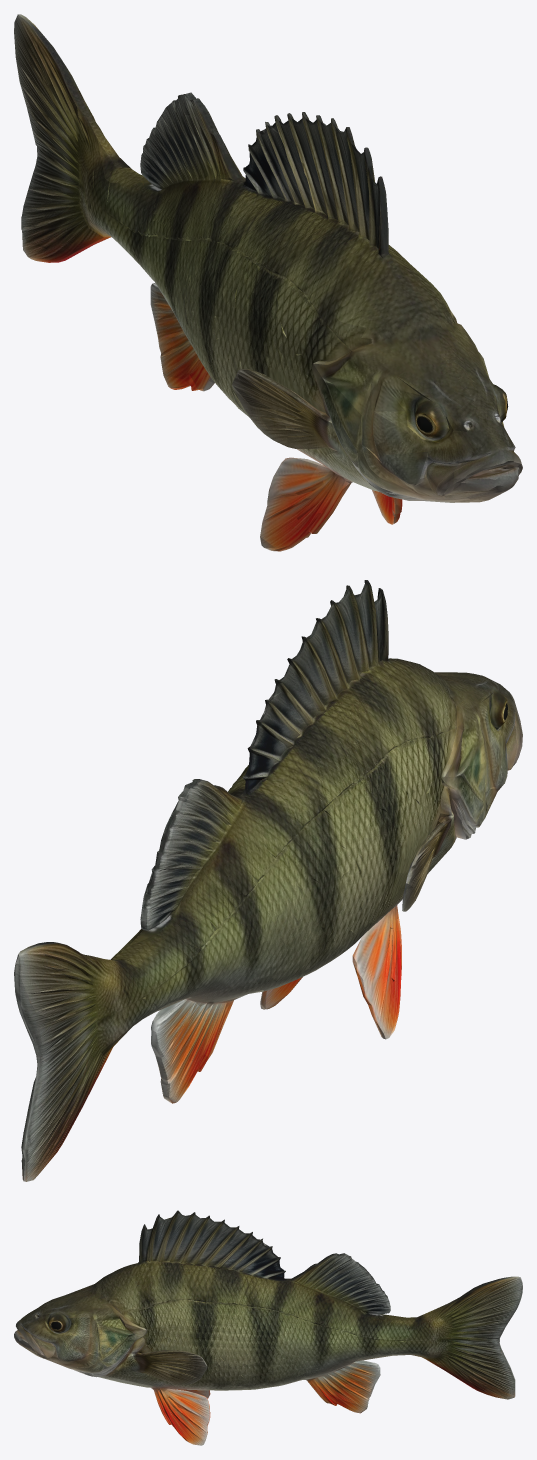
File: okon.glb
3 views of the same model, one above another, from view 1: azimuth 30°, elevation 25°; view 2: azimuth 150°, elevation 25°; view 3: azimuth 270°, elevation 25° (orthographic). The views are drawn at different scales.
Parts seen in each view (by area): view 1: output_unwrapped; view 2: output_unwrapped; view 3: output_unwrapped.
Part boxes in pixels (x1,y1,x2,y2): output_unwrapped: (14,14,522,551); output_unwrapped: (14,580,522,1181); output_unwrapped: (14,1210,522,1445).
Size of the model in its own units: 0.4 by 0.9048 by 1.9.
1 material, 1 textured.
